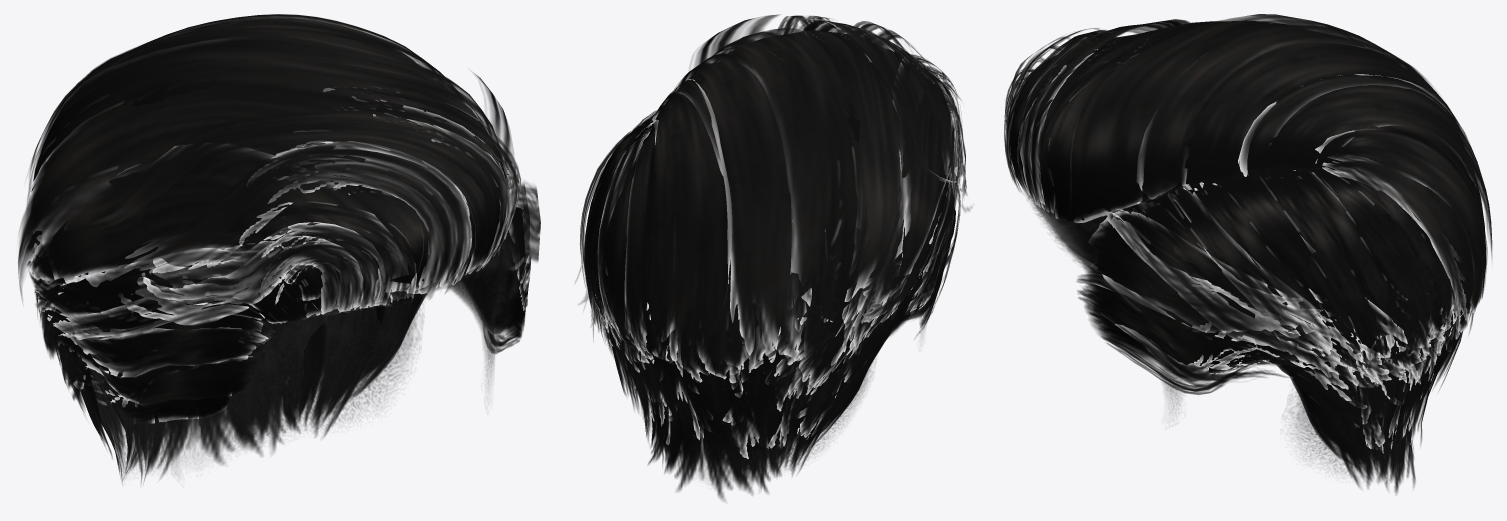
Rendered from Medium-LengthWaves.glb.
3 renders of one model, left to right at view 1: azimuth 30°, elevation 25°; view 2: azimuth 150°, elevation 25°; view 3: azimuth 270°, elevation 25°, orthographic. The views are drawn at different scales.
Visible parts, largest first — view 1: MEDIUM-LENGTH WAVES.002, Scalp, MEDIUM-LENGTH WAVES.009, MEDIUM-LENGTH WAVES.007, MEDIUM-LENGTH WAVES.008, MEDIUM-LENGTH WAVES.005, MEDIUM-LENGTH WAVES.006, MEDIUM-LENGTH WAVES.001, MEDIUM-LENGTH WAVES, MEDIUM-LENGTH WAVES.010; view 2: MEDIUM-LENGTH WAVES.002, MEDIUM-LENGTH WAVES.009, MEDIUM-LENGTH WAVES.007, MEDIUM-LENGTH WAVES.008, MEDIUM-LENGTH WAVES.010, MEDIUM-LENGTH WAVES.006, Scalp, MEDIUM-LENGTH WAVES.005, MEDIUM-LENGTH WAVES.001; view 3: MEDIUM-LENGTH WAVES.002, MEDIUM-LENGTH WAVES.009, MEDIUM-LENGTH WAVES, MEDIUM-LENGTH WAVES.006, MEDIUM-LENGTH WAVES.007, Scalp, MEDIUM-LENGTH WAVES.008, MEDIUM-LENGTH WAVES.005, MEDIUM-LENGTH WAVES.003, MEDIUM-LENGTH WAVES.004.
Boxes of the visible parts, x1,y1,x2,y2 form: MEDIUM-LENGTH WAVES.002: [18, 14, 531, 482]; Scalp: [90, 230, 520, 479]; MEDIUM-LENGTH WAVES.009: [29, 27, 507, 182]; MEDIUM-LENGTH WAVES.007: [82, 112, 507, 275]; MEDIUM-LENGTH WAVES.008: [129, 142, 472, 288]; MEDIUM-LENGTH WAVES.005: [248, 142, 471, 299]; MEDIUM-LENGTH WAVES.006: [325, 87, 520, 265]; MEDIUM-LENGTH WAVES.001: [46, 295, 281, 337]; MEDIUM-LENGTH WAVES: [506, 181, 540, 267]; MEDIUM-LENGTH WAVES.010: [31, 72, 515, 215]; MEDIUM-LENGTH WAVES.002: [575, 30, 971, 500]; MEDIUM-LENGTH WAVES.009: [711, 27, 859, 294]; MEDIUM-LENGTH WAVES.007: [798, 19, 952, 182]; MEDIUM-LENGTH WAVES.008: [846, 29, 957, 190]; MEDIUM-LENGTH WAVES.010: [689, 14, 780, 70]; MEDIUM-LENGTH WAVES.006: [777, 15, 848, 41]; Scalp: [649, 313, 924, 475]; MEDIUM-LENGTH WAVES.005: [854, 21, 938, 80]; MEDIUM-LENGTH WAVES.001: [911, 169, 952, 313]; MEDIUM-LENGTH WAVES.002: [1005, 21, 1492, 494]; MEDIUM-LENGTH WAVES.009: [1070, 14, 1429, 222]; MEDIUM-LENGTH WAVES: [1068, 215, 1295, 332]; MEDIUM-LENGTH WAVES.006: [1020, 36, 1147, 211]; MEDIUM-LENGTH WAVES.007: [1017, 19, 1190, 207]; Scalp: [1024, 191, 1371, 478]; MEDIUM-LENGTH WAVES.008: [1007, 30, 1107, 179]; MEDIUM-LENGTH WAVES.005: [1004, 28, 1099, 192]; MEDIUM-LENGTH WAVES.003: [1180, 165, 1308, 189]; MEDIUM-LENGTH WAVES.004: [1108, 165, 1305, 210].
Size of the model in its own units: 0.2366 by 0.2599 by 0.2588.
2 materials, 2 textured.
